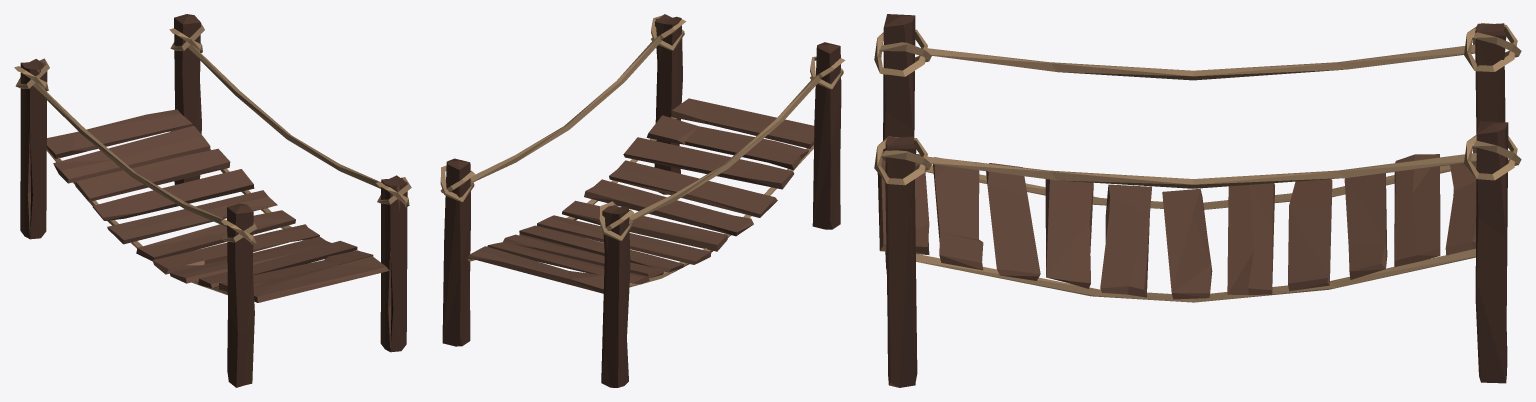
File: DocksBridge_01.glb
The picture shows the model from 3 angles, left to right: view 1: azimuth 30°, elevation 25°; view 2: azimuth 150°, elevation 25°; view 3: azimuth 270°, elevation 25°; orthographic projection. The views are drawn at different scales.
Visible parts, largest first — view 1: DocksBridge_01; view 2: DocksBridge_01; view 3: DocksBridge_01.
Boxes of the visible parts, <box> form: DocksBridge_01: <box>14,14,411,387</box>; DocksBridge_01: <box>440,14,845,387</box>; DocksBridge_01: <box>874,14,1521,387</box>.
Size of what is drawn, in the model's own units: 1.96 by 1.83 by 4.13.
Materials: 1 (1 with a texture image).
